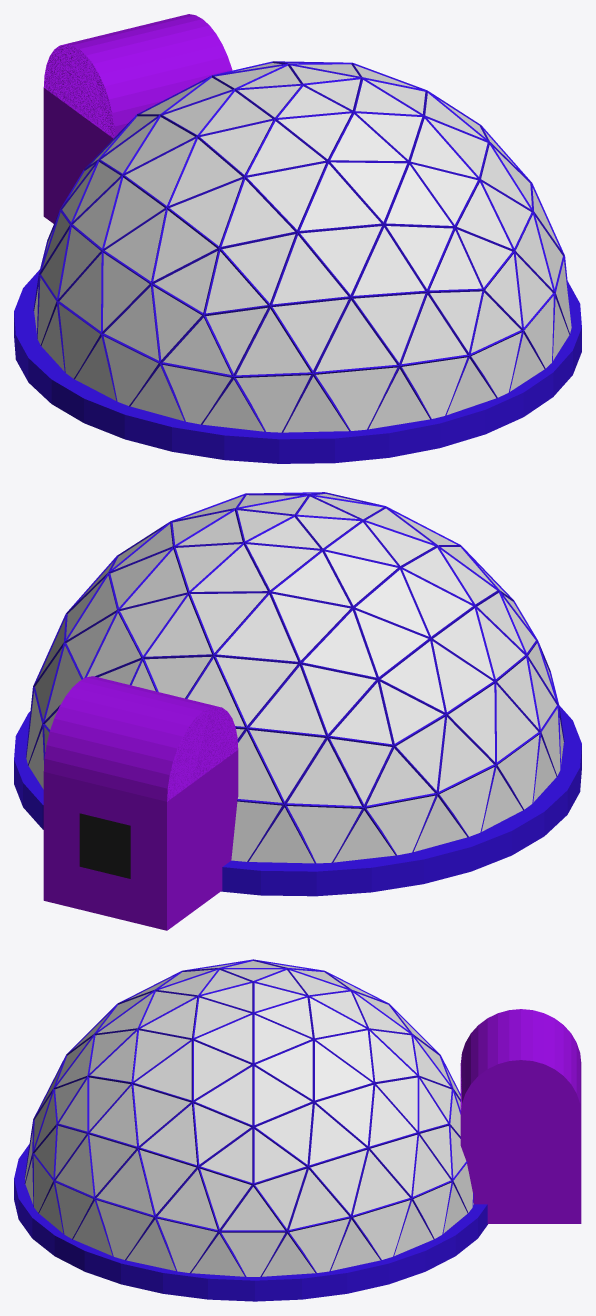
File: BioDome 1.fbx
3 renders of one model, top to bottom at view 1: azimuth 30°, elevation 25°; view 2: azimuth 150°, elevation 25°; view 3: azimuth 270°, elevation 25°, orthographic. The views are drawn at different scales.
Visible parts, largest first — view 1: Icosphere.001, Icosphere.002, Cylinder, Airlock; view 2: Icosphere.001, Airlock, Icosphere.002, Cylinder, Interaction Screen; view 3: Icosphere.001, Airlock, Icosphere.002, Cylinder.
Part boxes in pixels (x1=…): Icosphere.001: x1=34, y1=63, x2=571, y2=432; Icosphere.002: x1=33, y1=61, x2=571, y2=432; Cylinder: x1=14, y1=269, x2=581, y2=463; Airlock: x1=43, y1=14, x2=232, y2=223; Icosphere.001: x1=26, y1=493, x2=563, y2=863; Airlock: x1=43, y1=676, x2=238, y2=930; Icosphere.002: x1=26, y1=492, x2=564, y2=863; Cylinder: x1=14, y1=705, x2=581, y2=896; Interaction Screen: x1=79, y1=813, x2=130, y2=878; Icosphere.001: x1=25, y1=961, x2=473, y2=1276; Airlock: x1=460, y1=1009, x2=581, y2=1223; Icosphere.002: x1=24, y1=959, x2=473, y2=1276; Cylinder: x1=14, y1=1144, x2=487, y2=1301.
Size of the model in its own units: 800 by 403 by 942.
